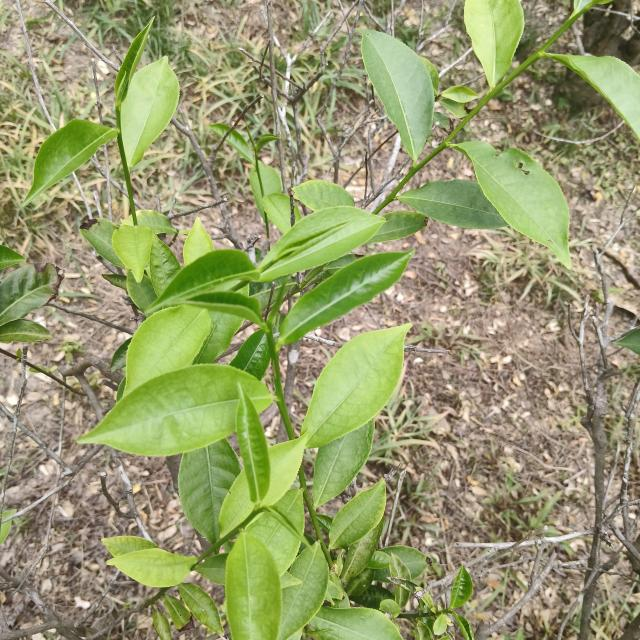Leaf: (77, 364, 273, 456), (452, 141, 571, 267), (302, 323, 411, 447), (278, 250, 413, 347), (256, 206, 385, 282), (361, 30, 434, 161), (124, 305, 210, 396), (24, 119, 116, 204), (146, 249, 259, 316), (548, 54, 640, 136), (119, 56, 179, 169), (178, 439, 241, 542), (225, 532, 281, 640), (313, 419, 374, 507), (399, 179, 506, 229), (464, 0, 524, 89), (277, 543, 329, 640), (236, 383, 270, 504), (328, 479, 386, 548), (0, 264, 62, 326), (107, 548, 196, 588), (114, 19, 153, 106), (247, 512, 300, 575), (261, 435, 307, 505), (311, 606, 402, 640), (181, 292, 266, 328), (341, 517, 384, 582), (112, 225, 155, 283), (178, 583, 223, 635), (219, 469, 253, 534), (81, 218, 124, 267), (229, 330, 269, 380), (149, 235, 181, 296), (250, 161, 282, 221), (293, 180, 354, 211), (369, 211, 426, 242), (382, 545, 427, 579), (183, 217, 214, 266), (126, 271, 157, 315), (0, 319, 52, 343), (263, 193, 292, 234), (102, 536, 157, 557), (193, 553, 228, 586), (276, 489, 304, 530), (351, 585, 393, 610), (137, 210, 177, 235), (226, 129, 254, 164), (450, 566, 473, 608), (163, 595, 191, 629), (439, 95, 467, 119), (440, 86, 479, 103), (0, 245, 26, 270), (452, 613, 474, 640), (152, 609, 171, 640), (325, 574, 345, 603), (433, 614, 452, 635), (280, 572, 302, 589), (210, 124, 230, 137), (294, 205, 301, 222), (121, 218, 133, 226)
